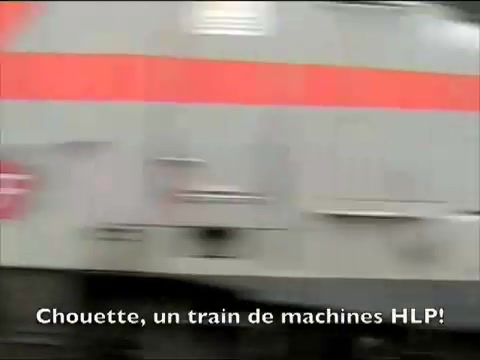train: (1, 3, 480, 310)
